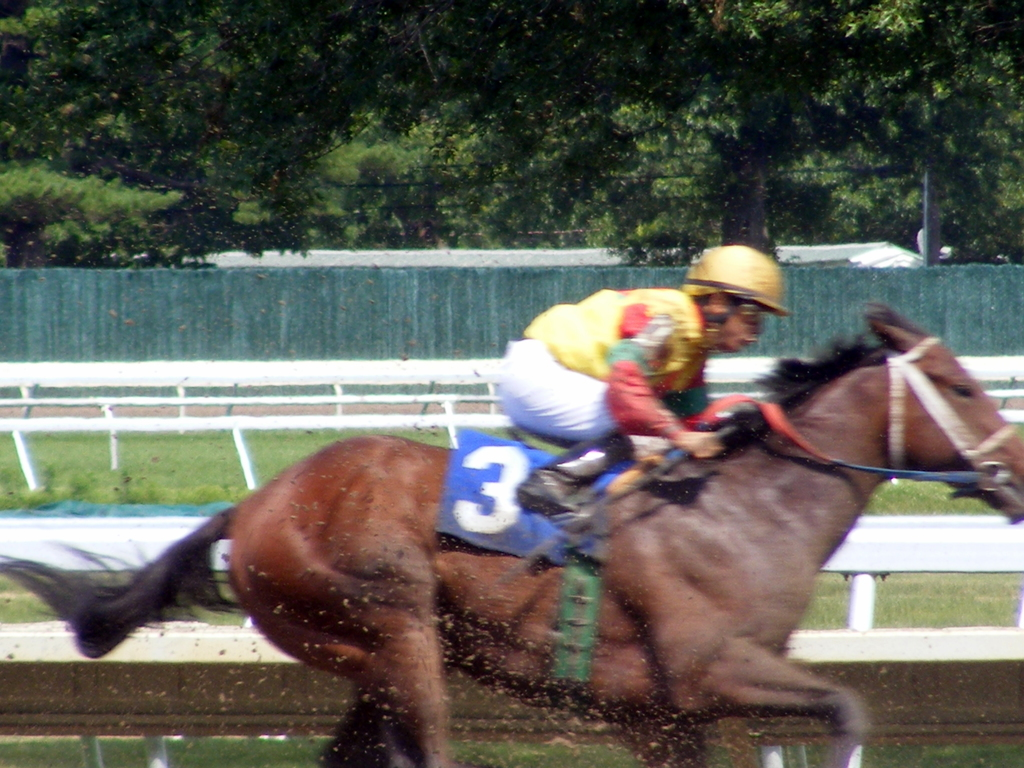Person: (493, 245, 789, 532)
